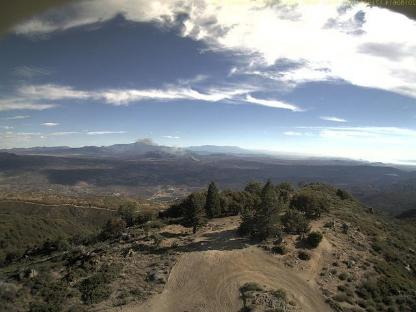smoke: (130, 136, 200, 162)
